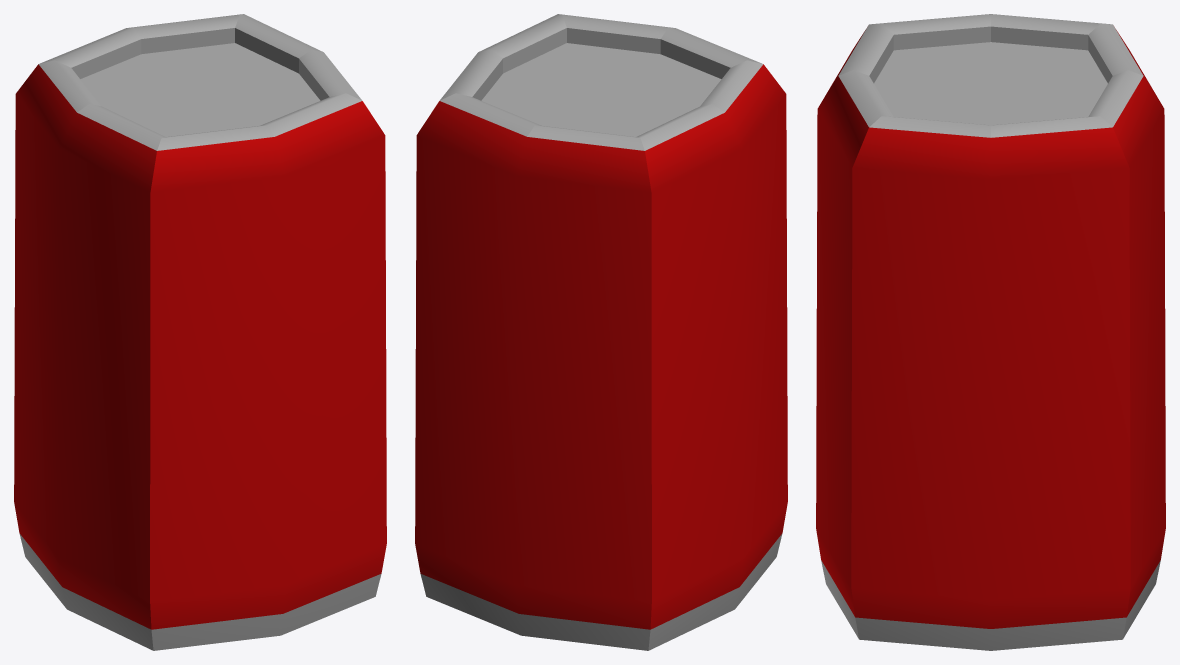
Rendered from Can_Blockout.fbx.
3 renders of one model, left to right at view 1: azimuth 30°, elevation 25°; view 2: azimuth 150°, elevation 25°; view 3: azimuth 270°, elevation 25°, orthographic. The views are drawn at different scales.
Parts seen in each view (by area): view 1: Can_Blockout; view 2: Can_Blockout; view 3: Can_Blockout.
Part boxes in pixels (box(x1,y1,x2,y2)): Can_Blockout: box(14, 14, 386, 650); Can_Blockout: box(415, 14, 787, 650); Can_Blockout: box(816, 14, 1165, 650).
Size of the model in its own units: 12.87 by 21.61 by 13.33.
